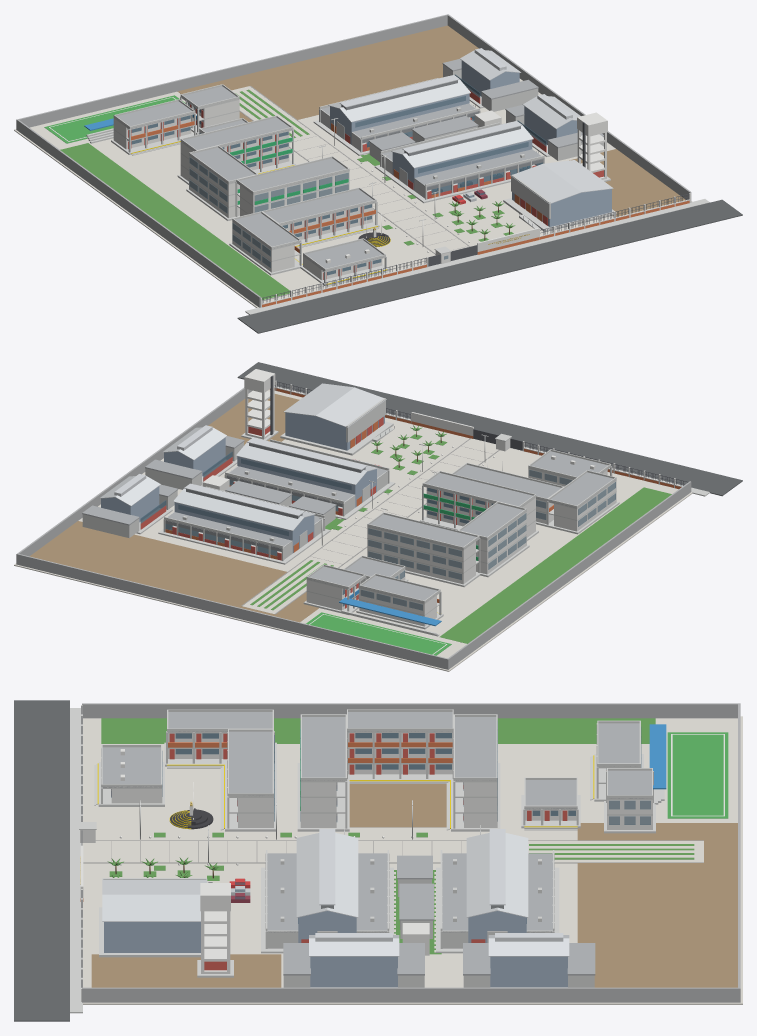
File: tecno-v1.glb
The picture shows the model from 3 angles, top to bottom: view 1: azimuth 30°, elevation 25°; view 2: azimuth 150°, elevation 25°; view 3: azimuth 270°, elevation 25°; orthographic projection. The views are drawn at different scales.
Visible parts, largest first — view 1: Terreno_Base_Campus, Area_Tierra_Fondo, Avenida_Frontal, Area_Verde_Lateral_Izq, Muro_Perimetro_Fondo, Alameda_Pista_Central, Muro_Perimetro_Izq, Area_Verde_Fondo_Der, Auditorio_Cubierta_Techo, Vereda_Exterior, Muro_Perimetro_Der, Lab_Nave1_NaveCentral_Techo (+41 smaller); view 2: Terreno_Base_Campus, Area_Tierra_Fondo, Avenida_Frontal, Area_Verde_Lateral_Izq, Alameda_Pista_Central, Muro_Perimetro_Fondo, Muro_Perimetro_Izq, Auditorio_Cubierta_Techo, Muro_Perimetro_Der, Lab_Nave1_NaveCentral_Techo, Lab_Nave2_NaveCentral_Techo, Cancha_Interior (+44 smaller); view 3: Terreno_Base_Campus, Area_Tierra_Fondo, Avenida_Frontal, Muro_Perimetro_Der, Alameda_Pista_Central, Muro_Perimetro_Izq, Area_Verde_Fondo_Der, Area_Verde_Lateral_Izq, Auditorio_Cubierta_Techo, Patio_Interno_U_Tierra, Cancha_Interior, Lab_Nave1_NaveCentral_Techo (+58 smaller).
Part boxes in pixels (x1,y1,x2,y2): Terreno_Base_Campus: (14,78,692,307); Area_Tierra_Fondo: (177,25,478,121); Avenida_Frontal: (237,199,742,333); Area_Verde_Lateral_Izq: (60,143,292,299); Muro_Perimetro_Fondo: (16,14,447,129); Alameda_Pista_Central: (231,86,468,253); Muro_Perimetro_Izq: (16,119,260,307); Area_Verde_Fondo_Der: (569,149,685,216); Auditorio_Cubierta_Techo: (510,160,613,204); Vereda_Exterior: (245,199,709,314); Muro_Perimetro_Der: (447,14,691,202); Lab_Nave1_NaveCentral_Techo: (391,124,533,168); Terreno_Base_Campus: (14,389,692,671); Area_Tierra_Fondo: (30,521,318,622); Avenida_Frontal: (237,362,742,496); Area_Verde_Lateral_Izq: (440,487,671,643); Alameda_Pista_Central: (242,438,498,613); Muro_Perimetro_Fondo: (16,554,449,669); Muro_Perimetro_Izq: (446,481,691,669); Auditorio_Cubierta_Techo: (284,383,386,427); Muro_Perimetro_Der: (16,387,252,564); Lab_Nave1_NaveCentral_Techo: (236,439,378,485); Lab_Nave2_NaveCentral_Techo: (173,485,315,530); Cancha_Interior: (310,614,445,654); Terreno_Base_Campus: (83,716,742,1004); Area_Tierra_Fondo: (577,823,737,987); Avenida_Frontal: (14,700,69,1021); Muro_Perimetro_Der: (82,987,740,1002); Alameda_Pista_Central: (82,841,703,862); Muro_Perimetro_Izq: (82,703,740,718); Area_Verde_Fondo_Der: (91,954,281,987); Area_Verde_Lateral_Izq: (101,718,655,743); Auditorio_Cubierta_Techo: (102,878,207,921); Patio_Interno_U_Tierra: (349,784,446,827); Cancha_Interior: (672,734,723,815); Lab_Nave1_NaveCentral_Techo: (296,833,358,917).
Bounding box in the file's own units: 156 × 18.65 × 150.
